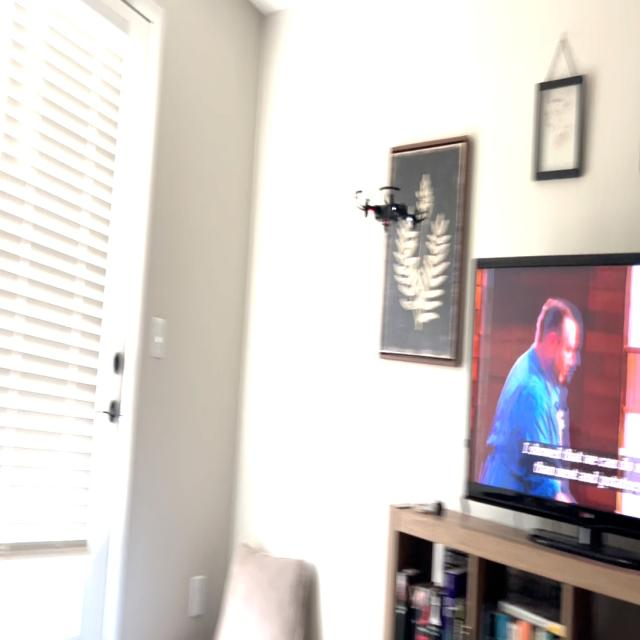drone: (348, 174, 428, 238)
